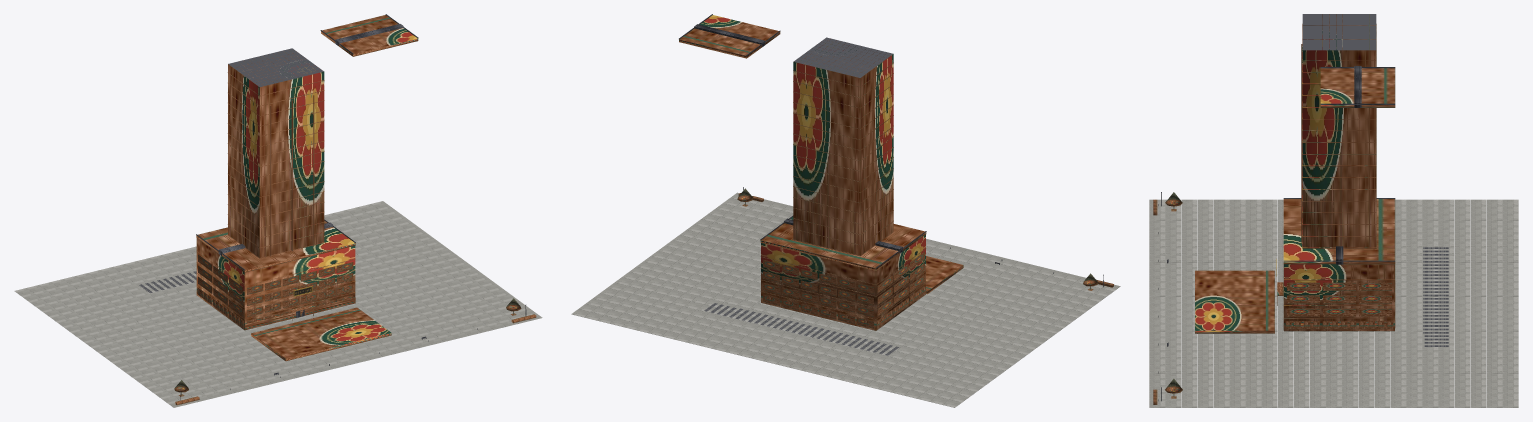
3 views of the same model, side by side, from view 1: azimuth 30°, elevation 25°; view 2: azimuth 150°, elevation 25°; view 3: azimuth 270°, elevation 25° (orthographic). The views are drawn at different scales.
Parts seen in each view (by area): view 1: 11710_01_05510_027_01__plinth_ground_base, 11710_01_05510_027_02__mass_body_facade, 11710_01_05510_027_03__roof_deck_structure, 11710_01_05510_027_03__roof_metal_ornament, 11710_01_05510_027_05__window_sash_glass, 11710_01_05510_027_06__landscape_greenery; view 2: 11710_01_05510_027_01__plinth_ground_base, 11710_01_05510_027_02__mass_body_facade, 11710_01_05510_027_03__roof_deck_structure, 11710_01_05510_027_03__roof_metal_ornament; view 3: 11710_01_05510_027_01__plinth_ground_base, 11710_01_05510_027_02__mass_body_facade, 11710_01_05510_027_03__roof_deck_structure, 11710_01_05510_027_03__roof_metal_ornament, 11710_01_05510_027_06__landscape_greenery.
Boxes of the visible parts, box(x1,y1,x2,y2) form: 11710_01_05510_027_01__plinth_ground_base: box(14, 201, 542, 407); 11710_01_05510_027_02__mass_body_facade: box(196, 15, 418, 361); 11710_01_05510_027_03__roof_deck_structure: box(139, 48, 323, 292); 11710_01_05510_027_03__roof_metal_ornament: box(196, 14, 418, 270); 11710_01_05510_027_05__window_sash_glass: box(251, 274, 348, 322); 11710_01_05510_027_06__landscape_greenery: box(174, 298, 536, 405); 11710_01_05510_027_01__plinth_ground_base: box(571, 192, 1120, 407); 11710_01_05510_027_02__mass_body_facade: box(679, 15, 963, 330); 11710_01_05510_027_03__roof_deck_structure: box(704, 37, 898, 355); 11710_01_05510_027_03__roof_metal_ornament: box(679, 14, 926, 268); 11710_01_05510_027_01__plinth_ground_base: box(1149, 199, 1518, 407); 11710_01_05510_027_02__mass_body_facade: box(1195, 14, 1395, 333); 11710_01_05510_027_03__roof_deck_structure: box(1302, 14, 1448, 346); 11710_01_05510_027_03__roof_metal_ornament: box(1283, 66, 1395, 264); 11710_01_05510_027_06__landscape_greenery: box(1153, 192, 1182, 404).
Bounding box in the file's own units: 160 × 99.2 × 120.
Materials: 7 (7 with a texture image).
